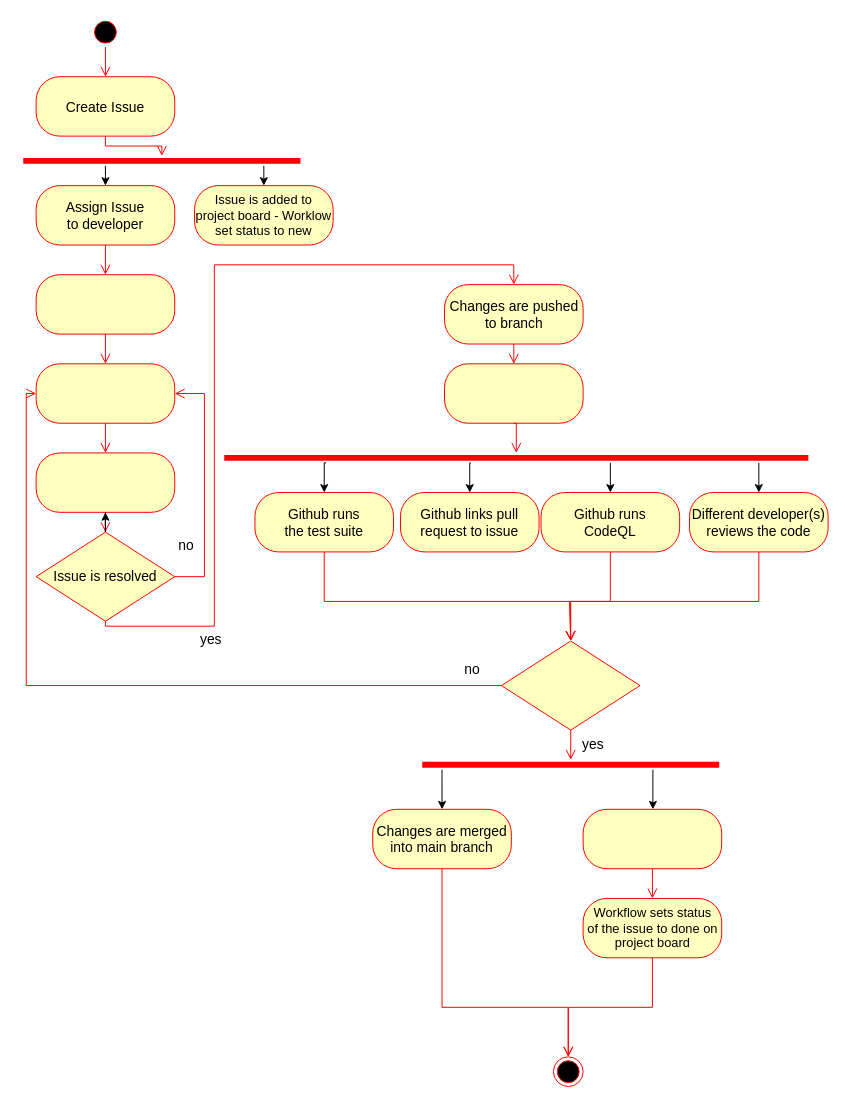
This 845x1104 diagram has some shape labels left out. Here are the shapes that lost their labels. From the top down, the centre of each, then its label:
(x=105, y=304): New Branch is created
(x=105, y=393): Assigned developer works on issue
(x=513, y=393): Pull request to main branch is made
(x=105, y=482): Developer commits changes to branch
(x=570, y=685): All checks passes
(x=652, y=838): Issue is closed
